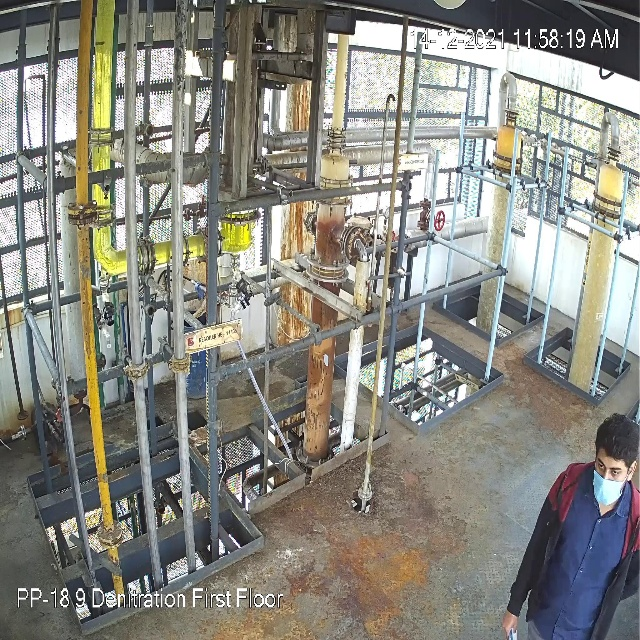Sin_gafas: (596, 459, 624, 482)
